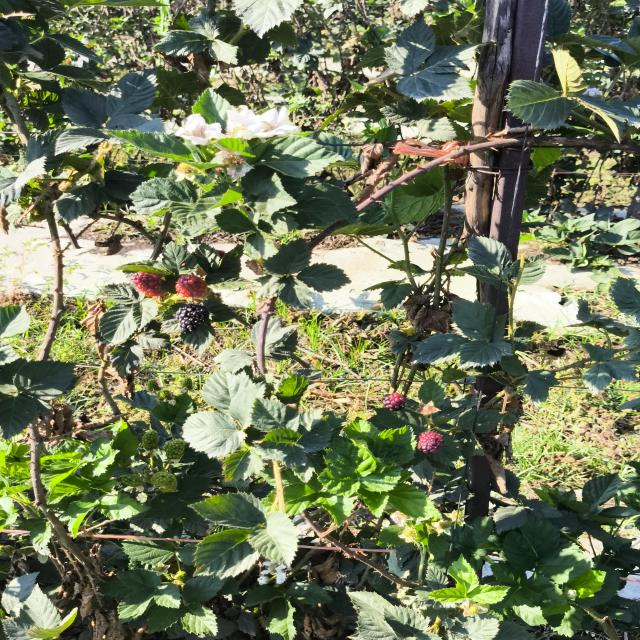flor: (226, 105, 298, 140), (175, 114, 222, 145)
maduro: (176, 304, 209, 333)
marron: (417, 431, 443, 453), (383, 392, 406, 411)
naranja: (131, 272, 162, 296), (175, 275, 207, 297)
